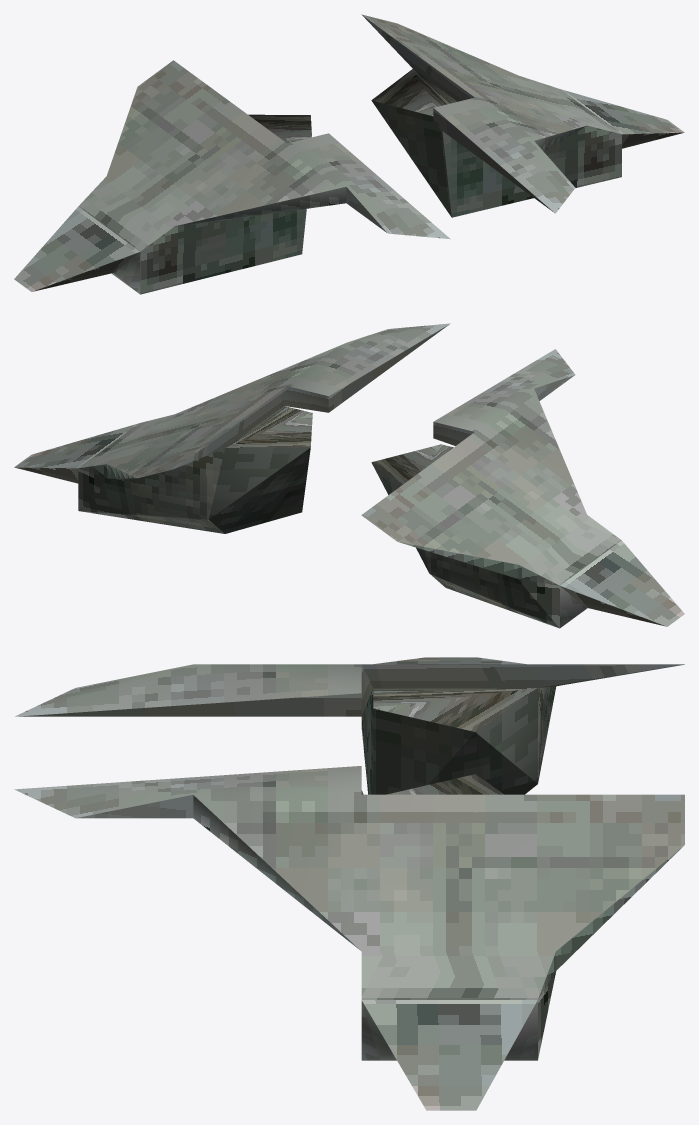
The model's file is black_sun_fighter_light_struct_s02_l2.fbx.
3 renders of one model, top to bottom at view 1: azimuth 30°, elevation 25°; view 2: azimuth 150°, elevation 25°; view 3: azimuth 270°, elevation 25°, orthographic. The views are drawn at different scales.
Visible parts, largest first — view 1: mesh_node; view 2: mesh_node; view 3: mesh_node.
Boxes of the visible parts, x1,y1,x2,y2 form: mesh_node: [14, 14, 684, 294]; mesh_node: [14, 323, 684, 628]; mesh_node: [14, 657, 684, 1110].
Size of the model in its own units: 15.82 by 2.74 by 9.89.
1 material, 1 textured.
